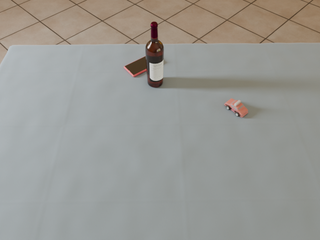bottle: (145, 22, 164, 87)
phone: (124, 57, 146, 77)
toy_car: (224, 99, 248, 117)
